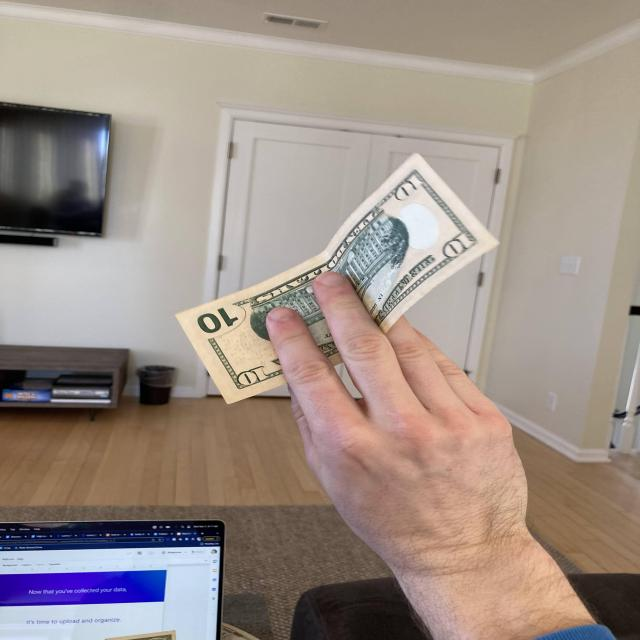ten: (162, 128, 502, 439)
